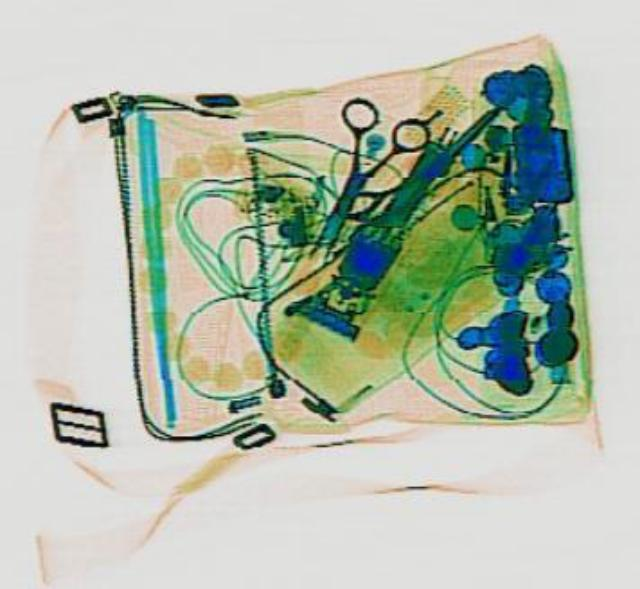Scissors: (268, 90, 434, 268)
